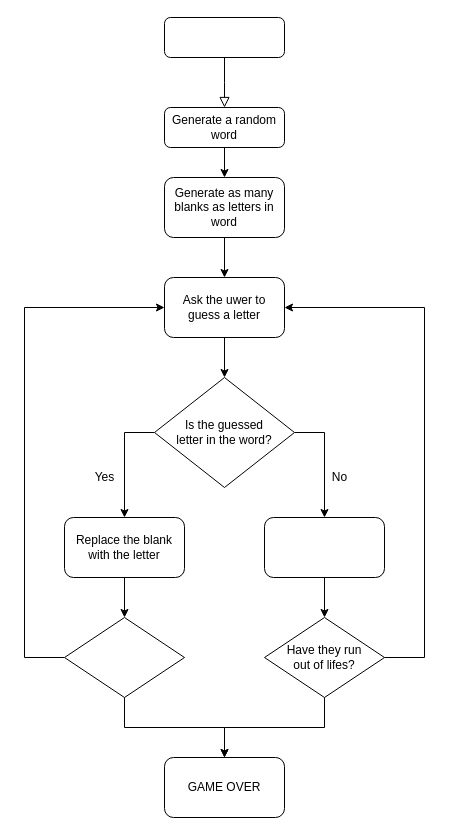
This 450x835 diagram has some shape labels left out. The centre of each missing label's shape, as x and y in pixels:
Are all the blanks filled?: the point at 124,657
Lamp doesn't work: the point at 224,37
Lose a life: the point at 324,547
